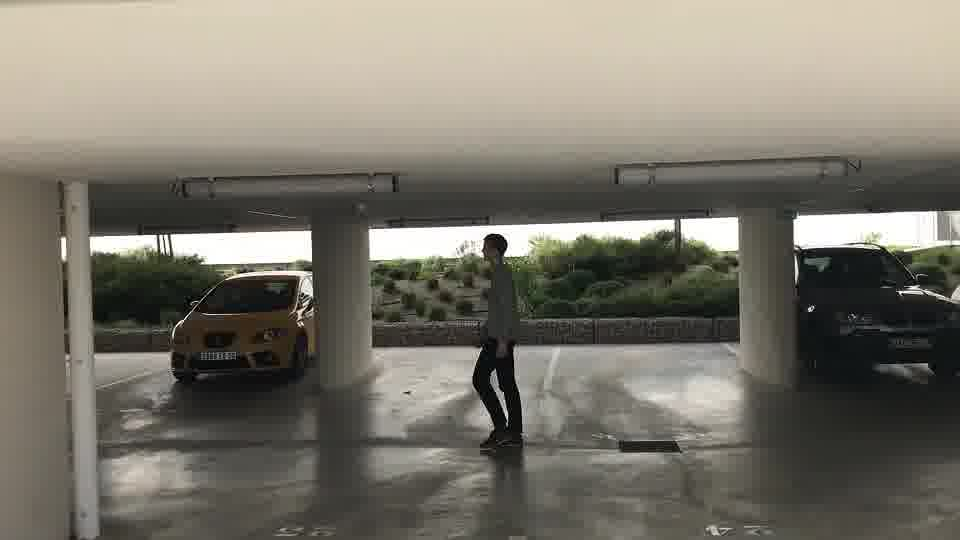jugador: (445, 233, 538, 453)
